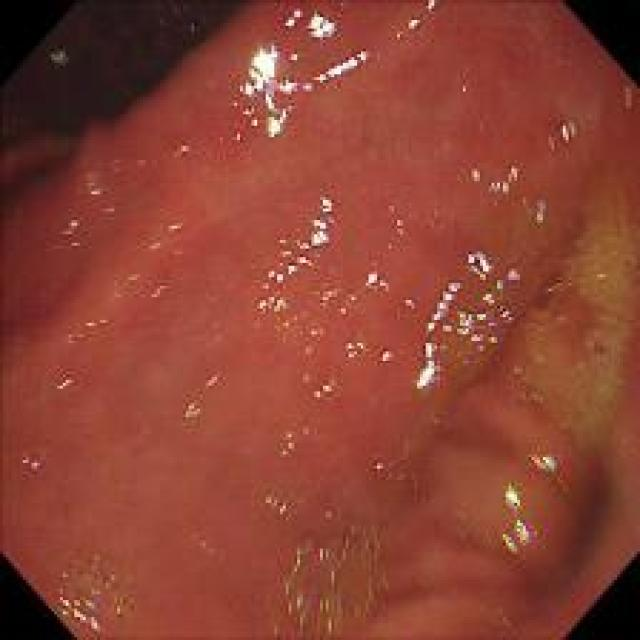bubbles: (509, 219, 636, 446), (511, 384, 546, 408), (509, 361, 542, 386), (490, 608, 520, 635), (576, 320, 599, 351), (541, 276, 568, 301)
color misalignment: (270, 519, 388, 636), (458, 281, 526, 356), (54, 585, 122, 632), (312, 275, 359, 322), (298, 368, 345, 408), (496, 514, 539, 556), (370, 455, 420, 491), (484, 161, 524, 199), (169, 140, 210, 168), (255, 489, 290, 519), (278, 422, 304, 460), (554, 115, 584, 144), (528, 448, 561, 474), (526, 195, 552, 228), (175, 392, 204, 421), (394, 289, 421, 320), (18, 450, 45, 479), (301, 315, 326, 346), (81, 178, 109, 205), (54, 216, 84, 241), (458, 160, 484, 188), (198, 366, 224, 390), (46, 42, 71, 66), (502, 480, 521, 506), (54, 376, 80, 394), (378, 339, 396, 365)
contrast: (1, 1, 229, 228)
specularity: (238, 44, 304, 101), (232, 102, 302, 144), (311, 49, 375, 86), (276, 235, 315, 282), (256, 269, 292, 318), (426, 278, 459, 330), (310, 195, 336, 251), (416, 339, 439, 391), (462, 245, 494, 282), (309, 9, 338, 41), (361, 266, 389, 294), (281, 2, 305, 30), (394, 15, 421, 36)
